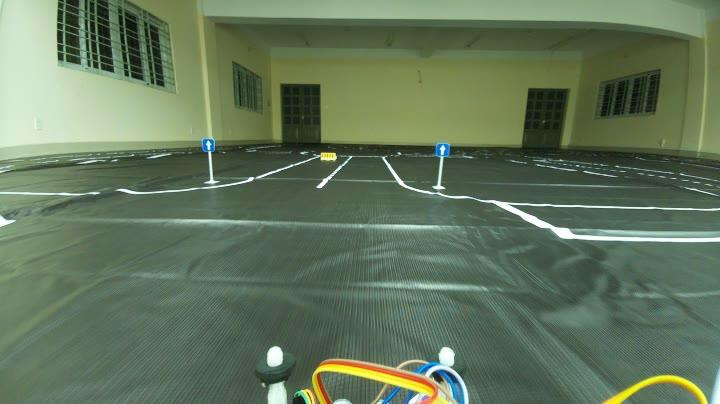onewayroad: (198, 134, 220, 156), (436, 140, 452, 158)
roadblock: (317, 148, 339, 164)
